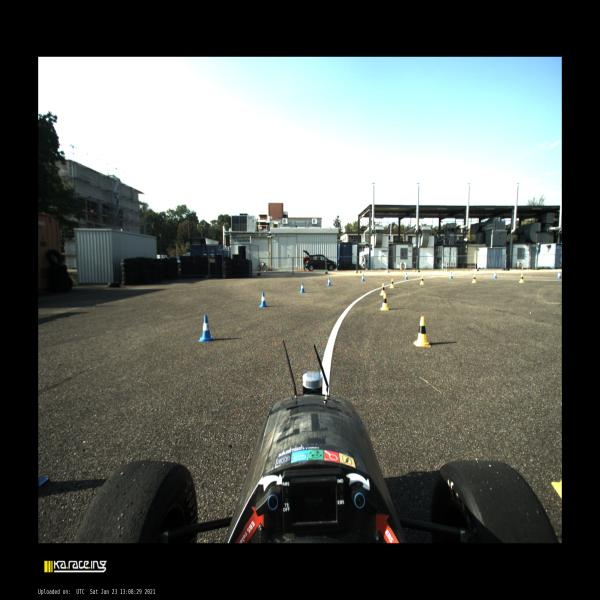blue_cone: (200, 314, 214, 341), (259, 292, 267, 307), (299, 281, 305, 293), (327, 277, 331, 286), (557, 271, 561, 279), (404, 272, 408, 280), (493, 272, 497, 279), (449, 272, 453, 279), (360, 274, 364, 281)
yellow_cone: (414, 316, 430, 346), (380, 293, 389, 310), (379, 283, 386, 296), (519, 274, 524, 282), (420, 275, 424, 285), (390, 278, 394, 288), (472, 274, 476, 283)
